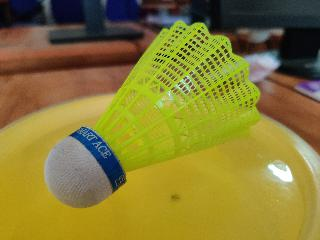shuttlecock: (44, 20, 258, 208)
